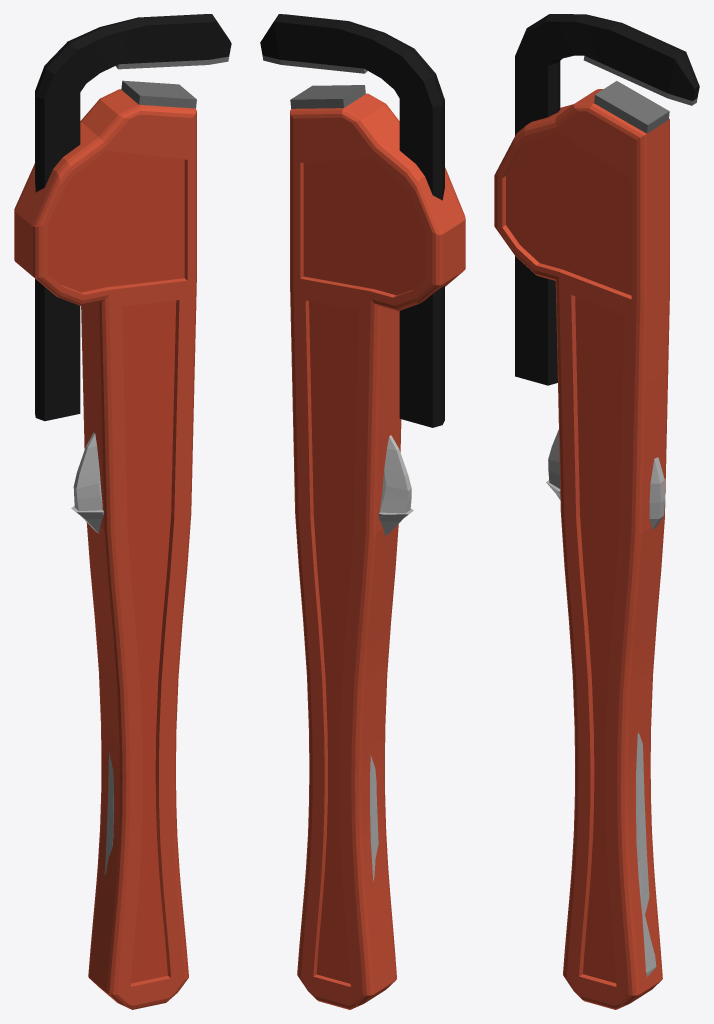
The model's file is wrench.fbx.
3 views of the same model, side by side, from view 1: azimuth 30°, elevation 25°; view 2: azimuth 150°, elevation 25°; view 3: azimuth 330°, elevation 25° (orthographic).
Visible parts, largest first — view 1: Wrench_002, Wrench_001; view 2: Wrench_002, Wrench_001; view 3: Wrench_002, Wrench_001.
Boxes of the visible parts, x1=… form: Wrench_002: x1=14, y1=14, x2=231, y2=1009; Wrench_001: x1=71, y1=432, x2=113, y2=875; Wrench_002: x1=260, y1=14, x2=465, y2=1009; Wrench_001: x1=370, y1=435, x2=413, y2=881; Wrench_002: x1=494, y1=14, x2=699, y2=1009; Wrench_001: x1=546, y1=429, x2=665, y2=976.
Bounding box in the file's own units: 15.95 × 74.65 × 4.49.
